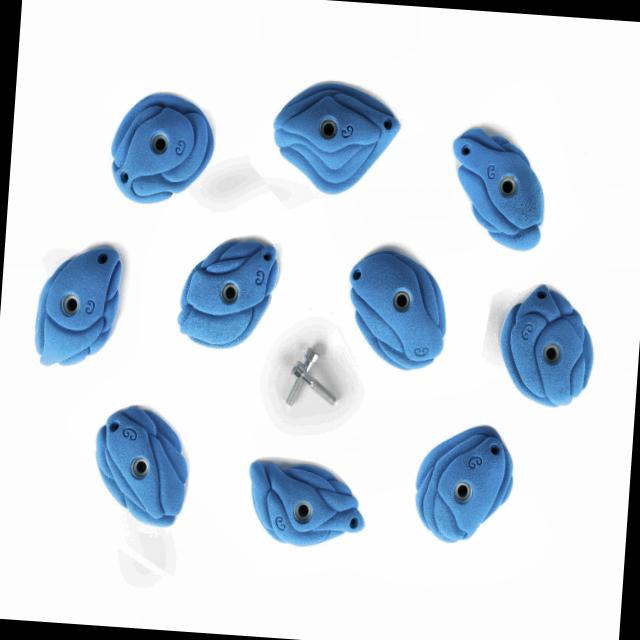Hold: (268, 77, 405, 202), (440, 124, 554, 260), (404, 419, 518, 544), (496, 286, 604, 416), (345, 244, 451, 374), (90, 403, 194, 532), (236, 459, 372, 555), (109, 92, 214, 210), (175, 235, 279, 354), (36, 242, 124, 370)
